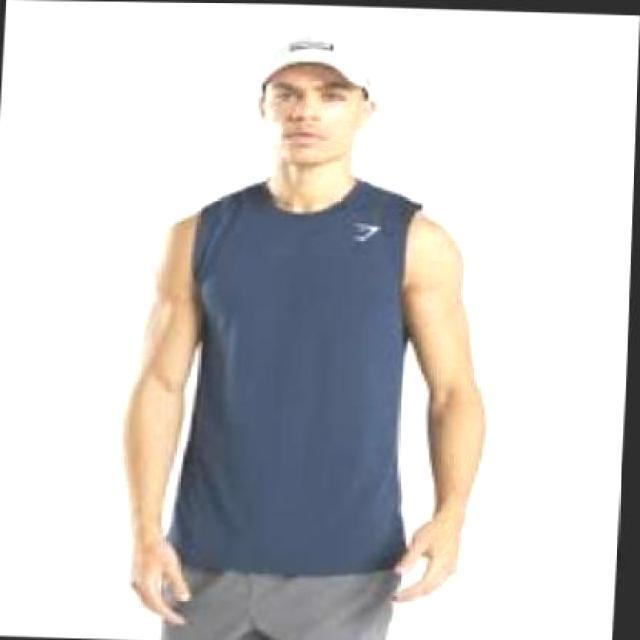no_vest: (170, 169, 433, 576)
